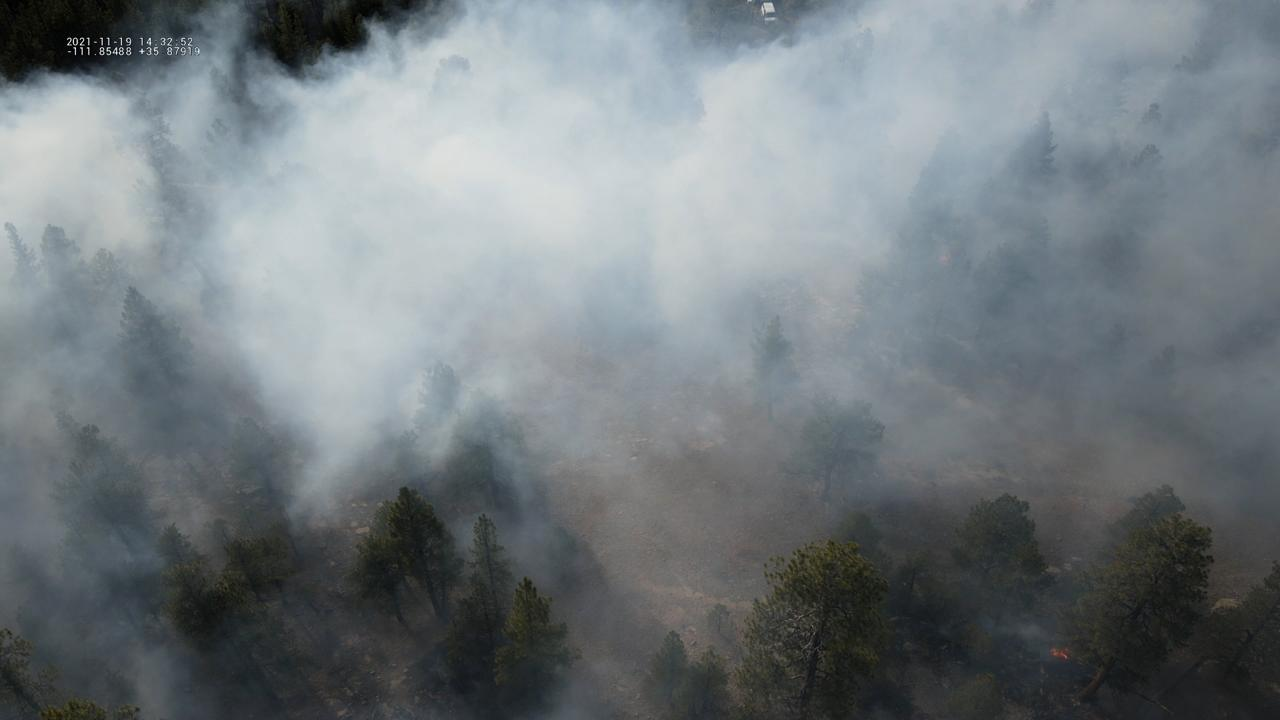fire: (1048, 646, 1073, 663)
smoke: (0, 0, 1280, 720)
